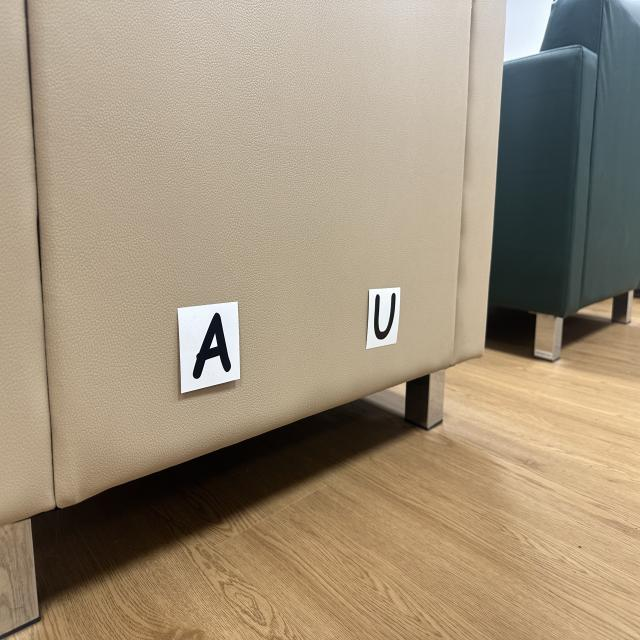A: (192, 313, 231, 378)
U: (374, 293, 395, 340)
